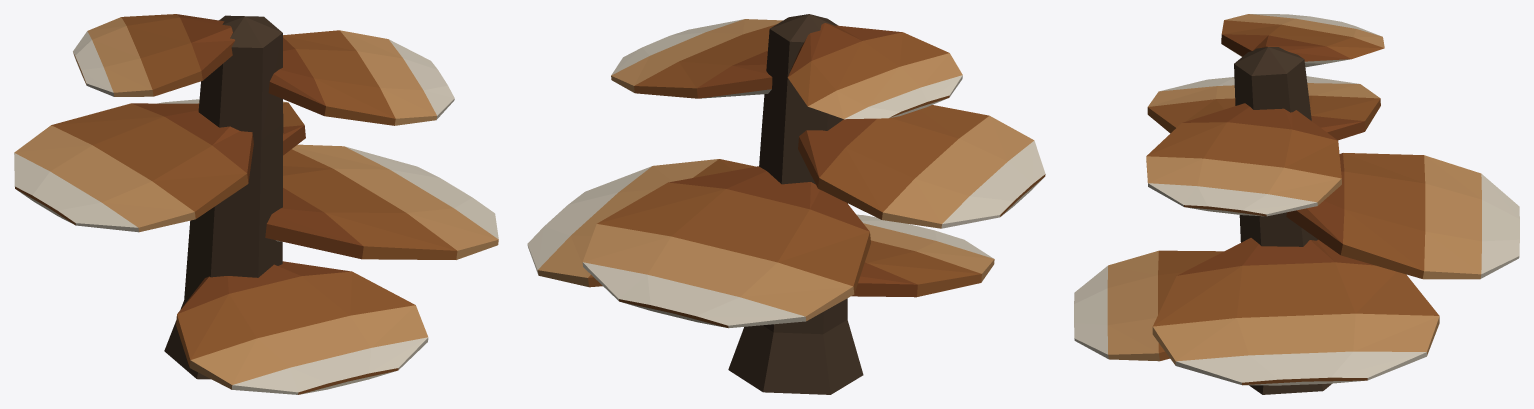
The model's file is shelf_fungus.gltf.
3 renders of one model, left to right at view 1: azimuth 30°, elevation 25°; view 2: azimuth 150°, elevation 25°; view 3: azimuth 270°, elevation 25°, orthographic. The views are drawn at different scales.
Parts seen in each view (by area): view 1: shelf_fungus; view 2: shelf_fungus; view 3: shelf_fungus.
Part boxes in pixels (x1,y1,x2,y2): shelf_fungus: (14,14,498,394); shelf_fungus: (527,14,1045,394); shelf_fungus: (1074,14,1519,394).
Bounding box in the file's own units: 0.2962 × 0.222 × 0.2745.
